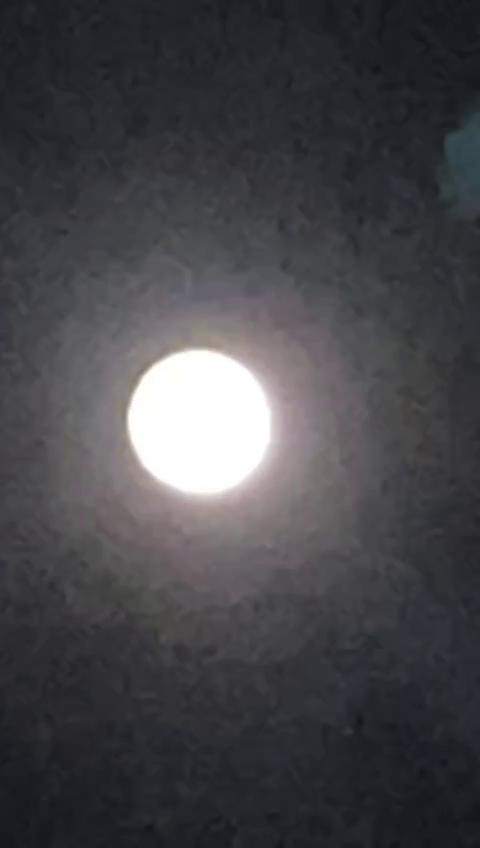moon: (124, 344, 274, 496)
